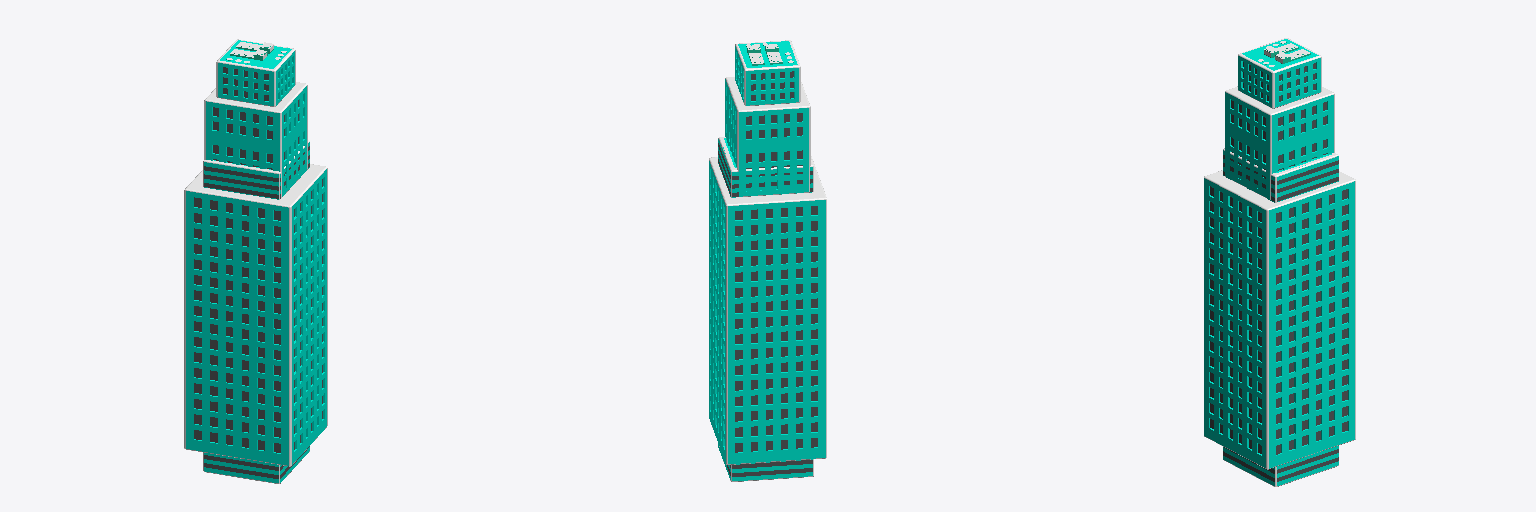
Rendered from init_map_build1.obj.
3 renders of one model, left to right at view 1: azimuth 30°, elevation 25°; view 2: azimuth 150°, elevation 25°; view 3: azimuth 270°, elevation 25°, orthographic.
Visible parts, largest first — view 1: 立方体_2, 立方体.2_2, 立方体.1, 立方体.3; view 2: 立方体_2, 立方体.2_2, 立方体.3, 立方体.1; view 3: 立方体_2, 立方体.2_2, 立方体.1, 立方体.3.
Part boxes in pixels (bbox=[...]): 立方体_2: bbox=[184, 164, 327, 466]; 立方体.2_2: bbox=[204, 82, 307, 197]; 立方体.1: bbox=[203, 140, 309, 483]; 立方体.3: bbox=[216, 39, 295, 106]; 立方体_2: bbox=[709, 156, 826, 464]; 立方体.2_2: bbox=[725, 77, 810, 196]; 立方体.3: bbox=[735, 40, 800, 105]; 立方体.1: bbox=[718, 137, 813, 481]; 立方体_2: bbox=[1204, 170, 1355, 469]; 立方体.2_2: bbox=[1225, 86, 1334, 199]; 立方体.1: bbox=[1223, 148, 1338, 486]; 立方体.3: bbox=[1238, 38, 1321, 108].
Size of the model in its own units: 66.01 by 200 by 66.84.